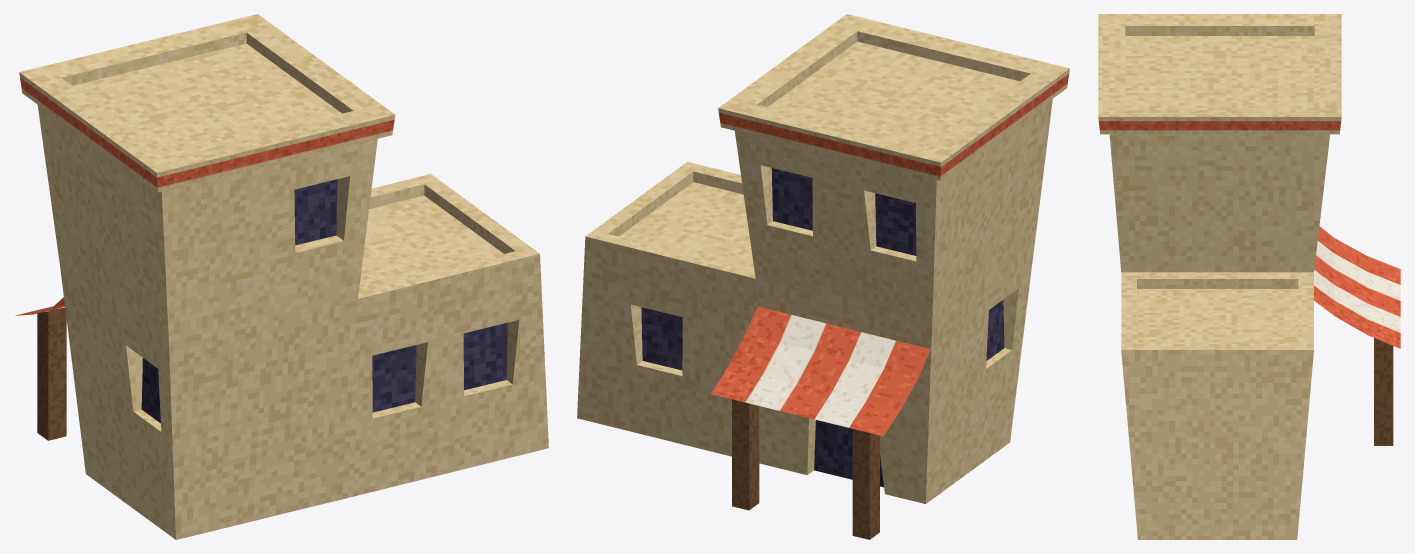
Rendered from CasaEgiptoModeloD.fbx.
3 renders of one model, left to right at view 1: azimuth 30°, elevation 25°; view 2: azimuth 150°, elevation 25°; view 3: azimuth 270°, elevation 25°, orthographic. The views are drawn at different scales.
Visible parts, largest first — view 1: CasaModeloD; view 2: CasaModeloD; view 3: CasaModeloD.
Boxes of the visible parts, <box> form: CasaModeloD: <box>15,14,548,539</box>; CasaModeloD: <box>577,14,1069,539</box>; CasaModeloD: <box>1098,14,1400,539</box>.
Size of the model in its own units: 4.48 by 4.07 by 3.21.
